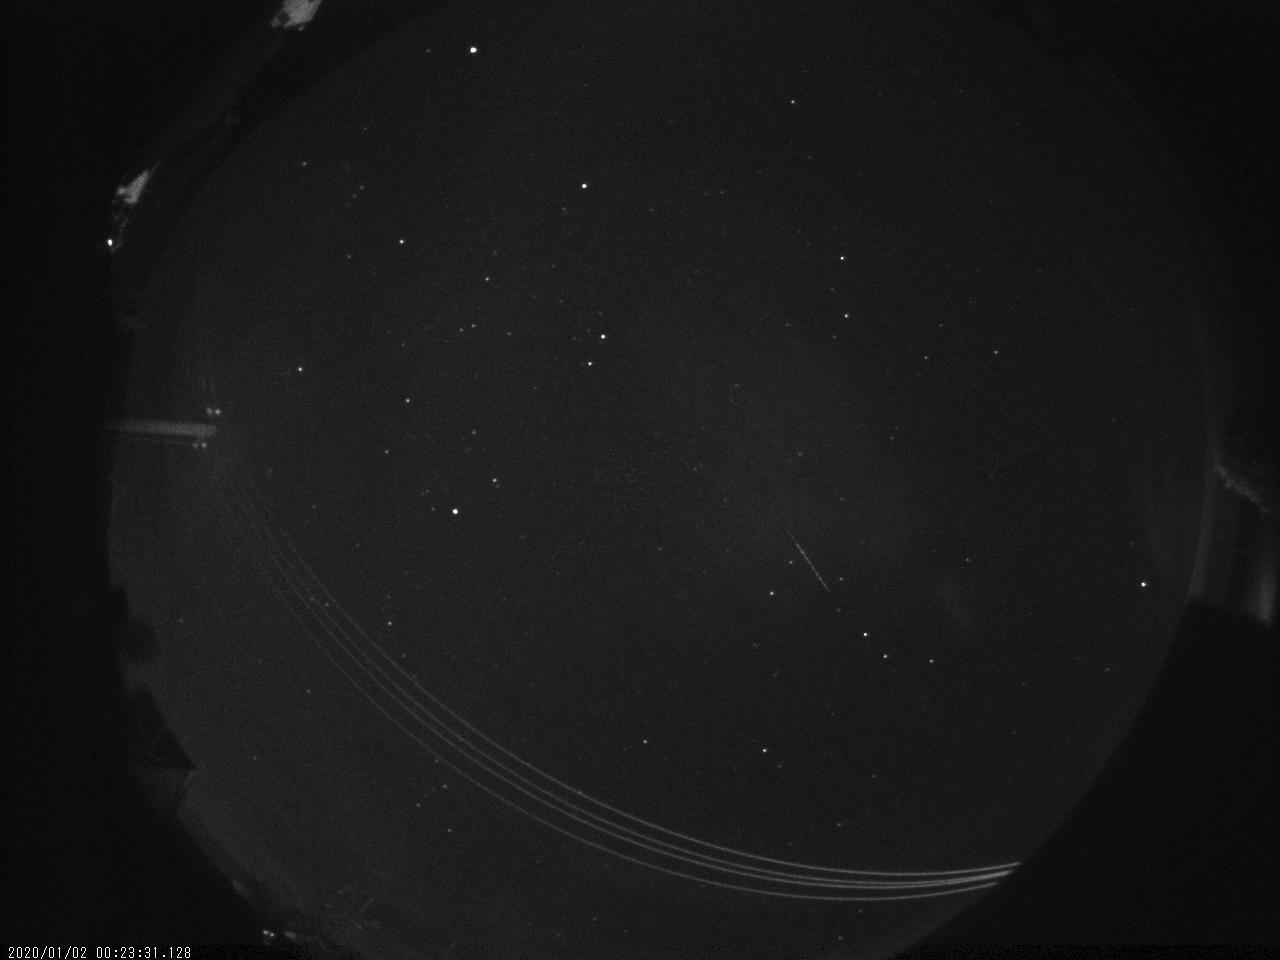Meteor: (785, 526, 837, 602)
